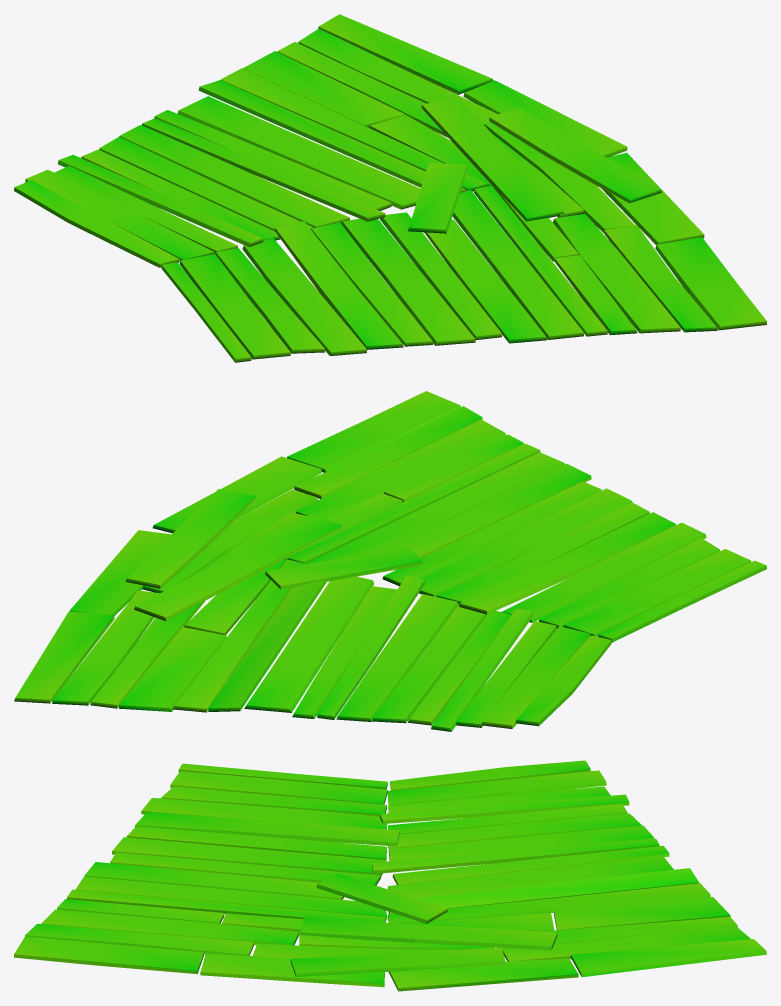
The picture shows the model from 3 angles, top to bottom: view 1: azimuth 30°, elevation 25°; view 2: azimuth 150°, elevation 25°; view 3: azimuth 270°, elevation 25°; orthographic projection. The views are drawn at different scales.
Visible parts, largest first — view 1: G:\FFXIV-MapTools\exports\f1f1\bg\ffxiv\fst_f1\fld\f1f1\bgpa; view 2: G:\FFXIV-MapTools\exports\f1f1\bg\ffxiv\fst_f1\fld\f1f1\bgpa; view 3: G:\FFXIV-MapTools\exports\f1f1\bg\ffxiv\fst_f1\fld\f1f1\bgpa.
Part boxes in pixels (x1,y1,x2,y2): G:\FFXIV-MapTools\exports\f1f1\bg\ffxiv\fst_f1\fld\f1f1\bgpa: (14,14,766,362); G:\FFXIV-MapTools\exports\f1f1\bg\ffxiv\fst_f1\fld\f1f1\bgpa: (14,391,766,731); G:\FFXIV-MapTools\exports\f1f1\bg\ffxiv\fst_f1\fld\f1f1\bgpa: (14,760,766,991).
Size of the model in its own units: 10.62 by 0.2292 by 15.1.
